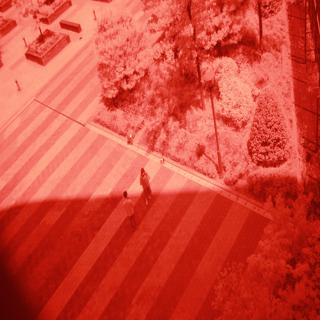person: (134, 162, 159, 207), (117, 182, 140, 225)
